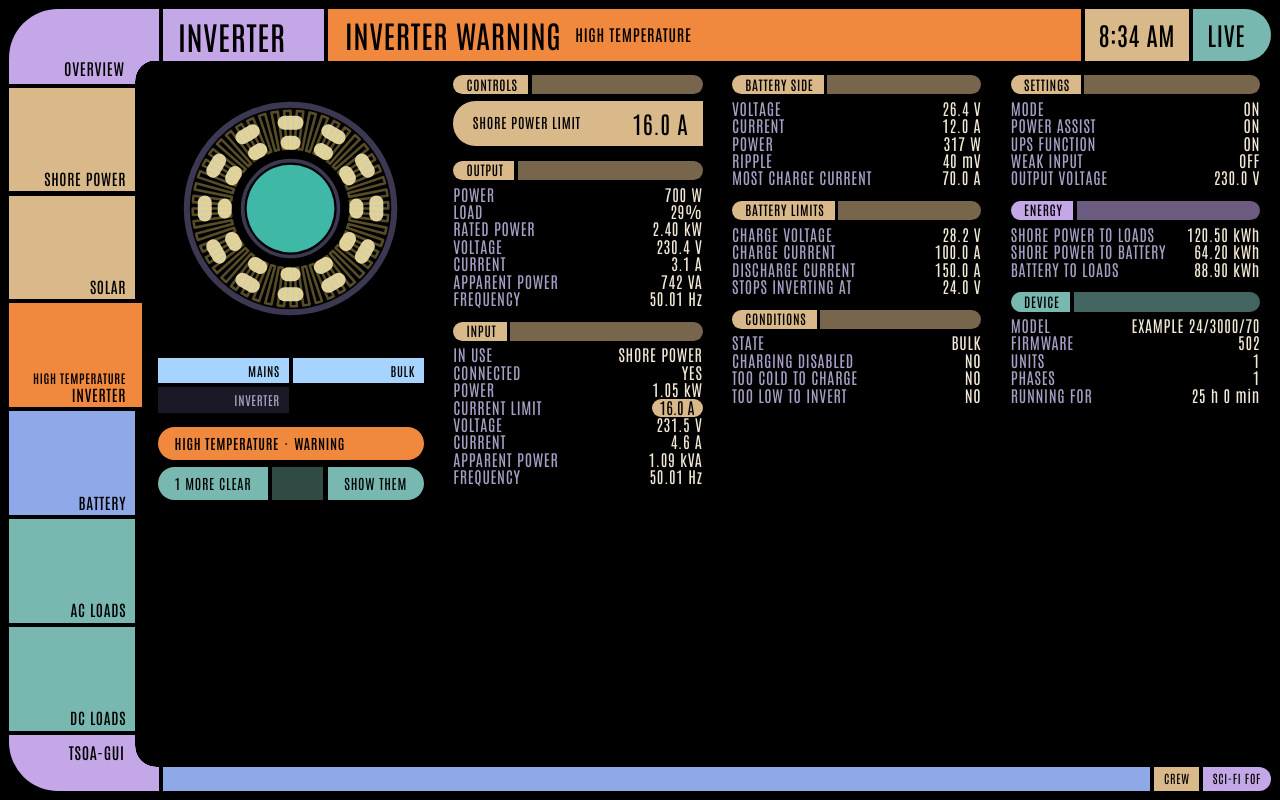
the input limit screen in Sci-Fi FOF › refuses a value above what the account may set, and says why
Step 1. Click the button "Shore power limit 16.0 A" → (578, 123), box x1=453 y1=101 x2=703 y2=146
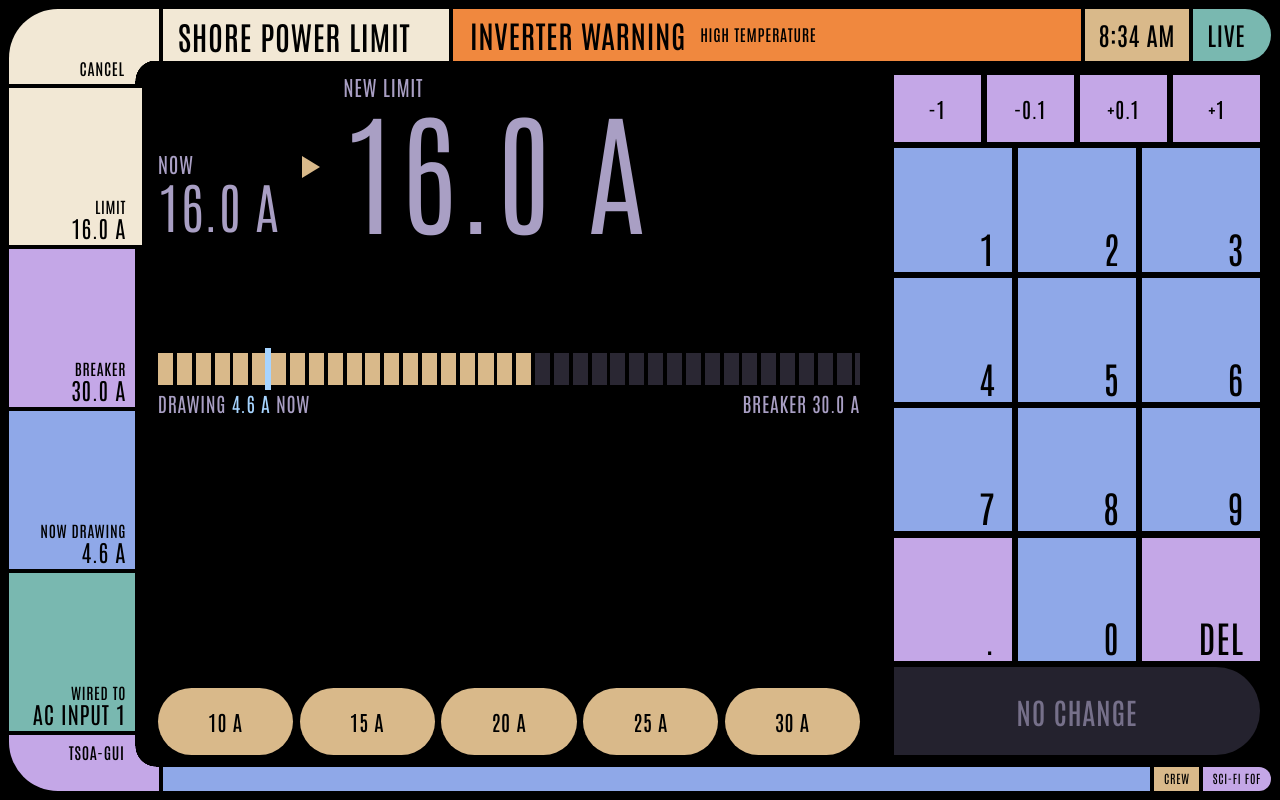
Step 2. Click the button "3" → (1201, 210), box x1=1142 y1=148 x2=1260 y2=272
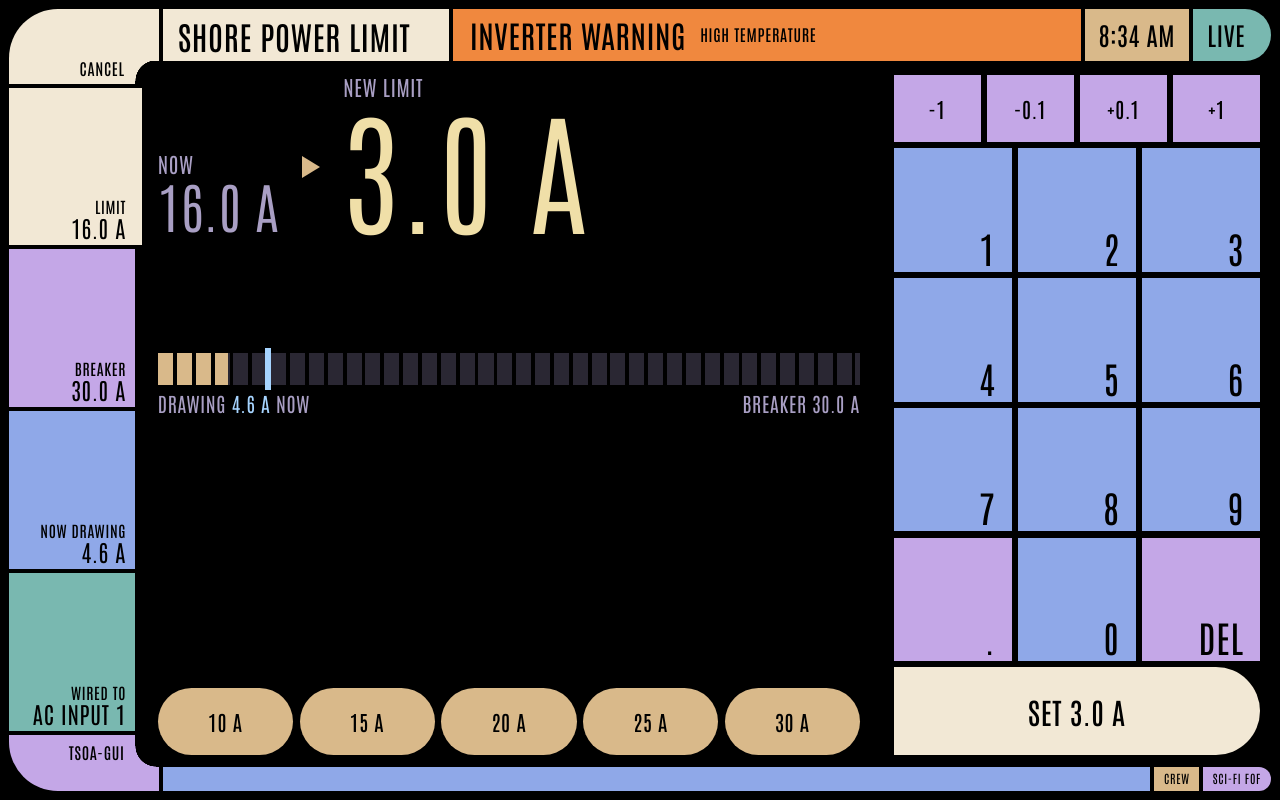
Step 3. Click the button "5" → (1077, 340), box x1=1018 y1=278 x2=1136 y2=402
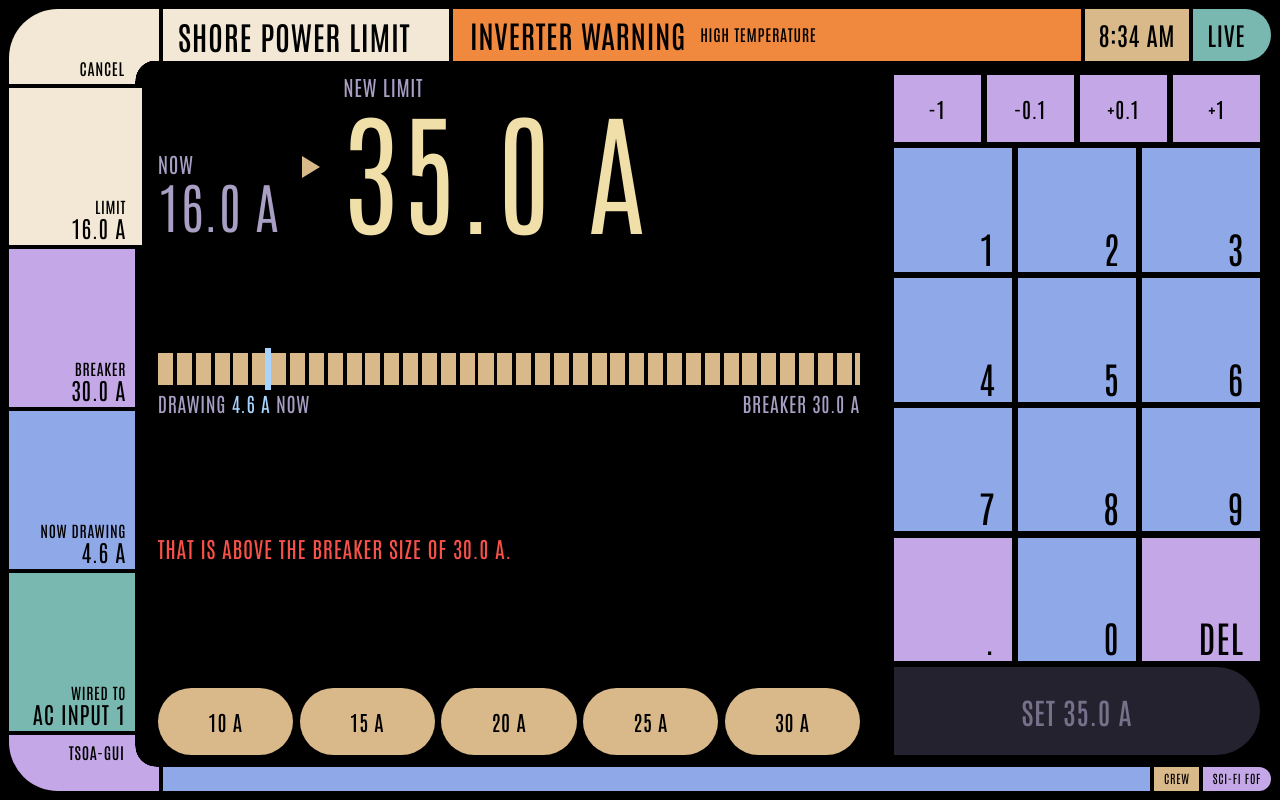
Now the message "That is above the breaker size of 30.0 A." is shown, box x1=158 y1=534 x2=512 y2=562
Now the button "Set 35.0 A" is disabled, box x1=894 y1=668 x2=1260 y2=756
